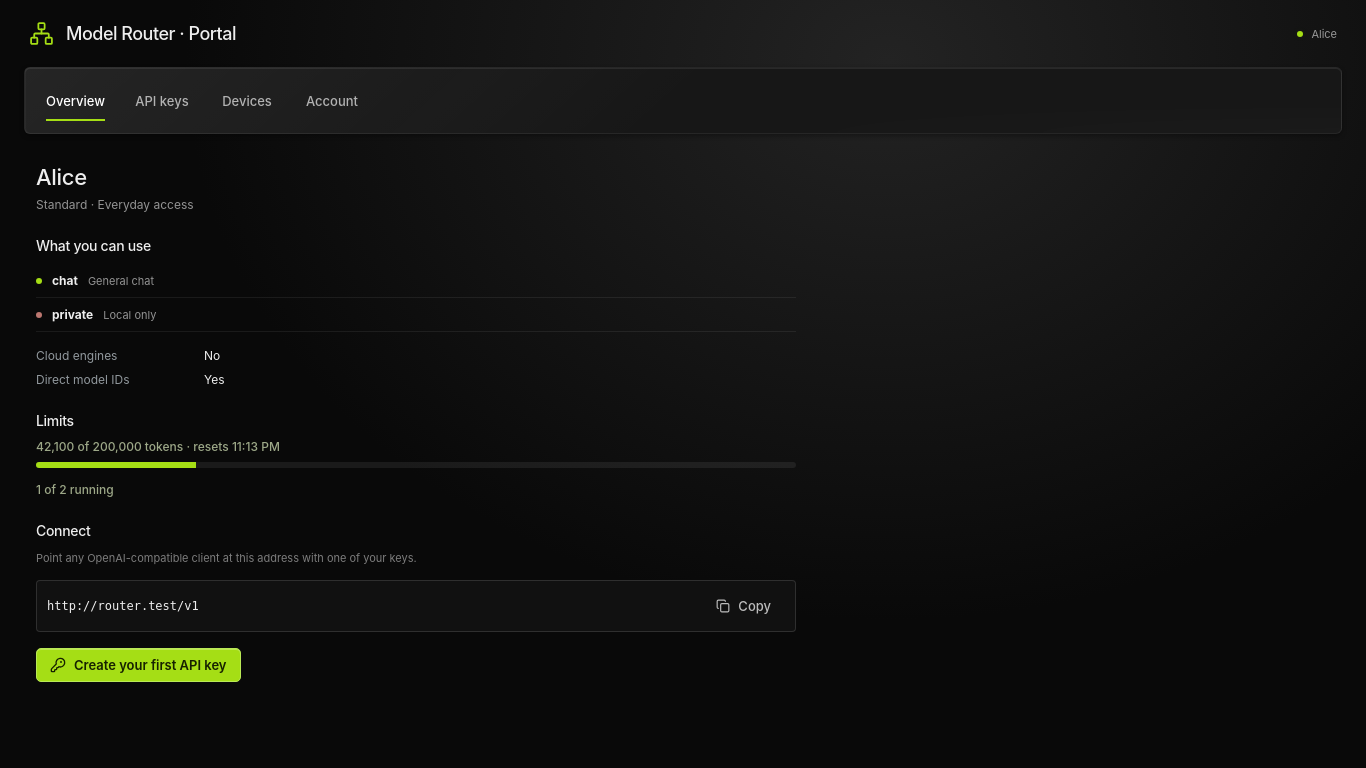
create key reveals the secret once with the snippet and revoke removes it
Click the button "API keys": click(162, 100) left=132, top=68, right=192, bottom=133
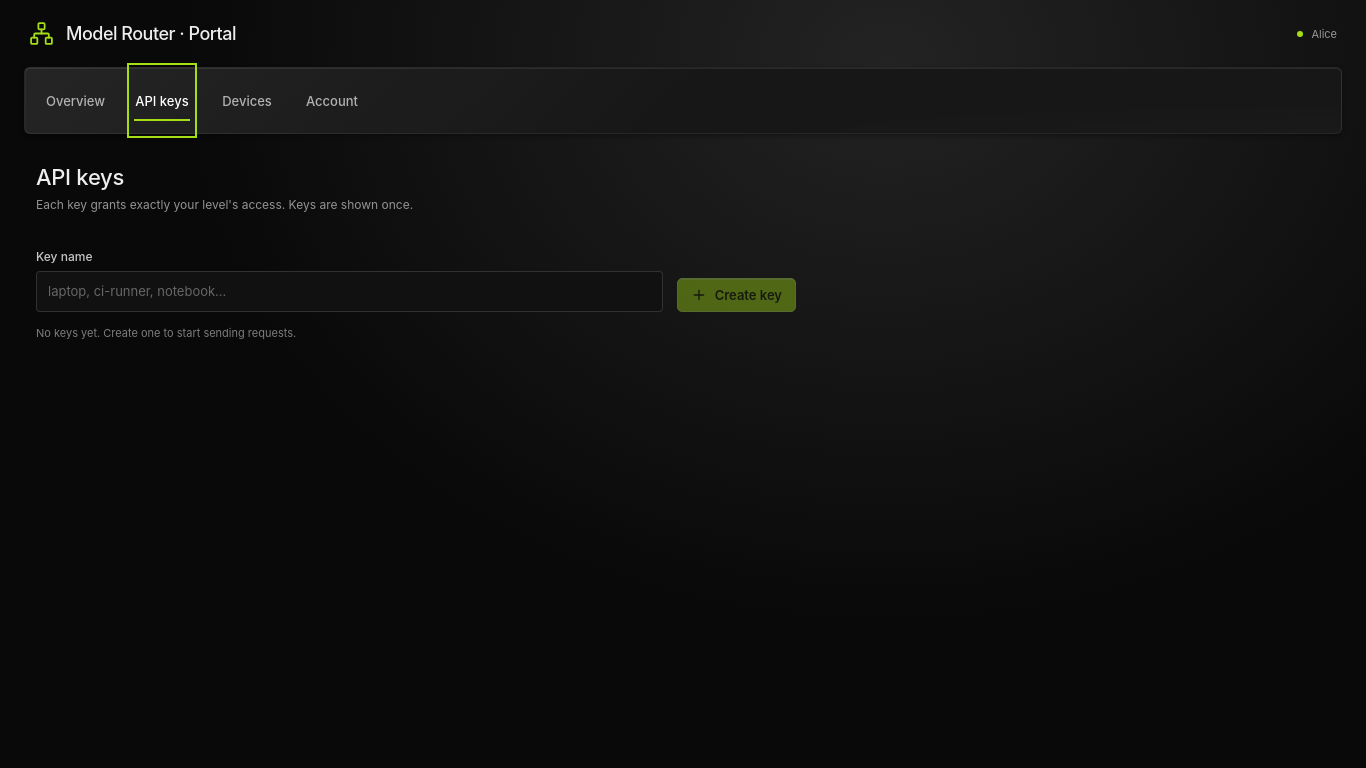
In the field labelled "Key name": (349, 291) left=36, top=271, right=663, bottom=312, type "laptop"
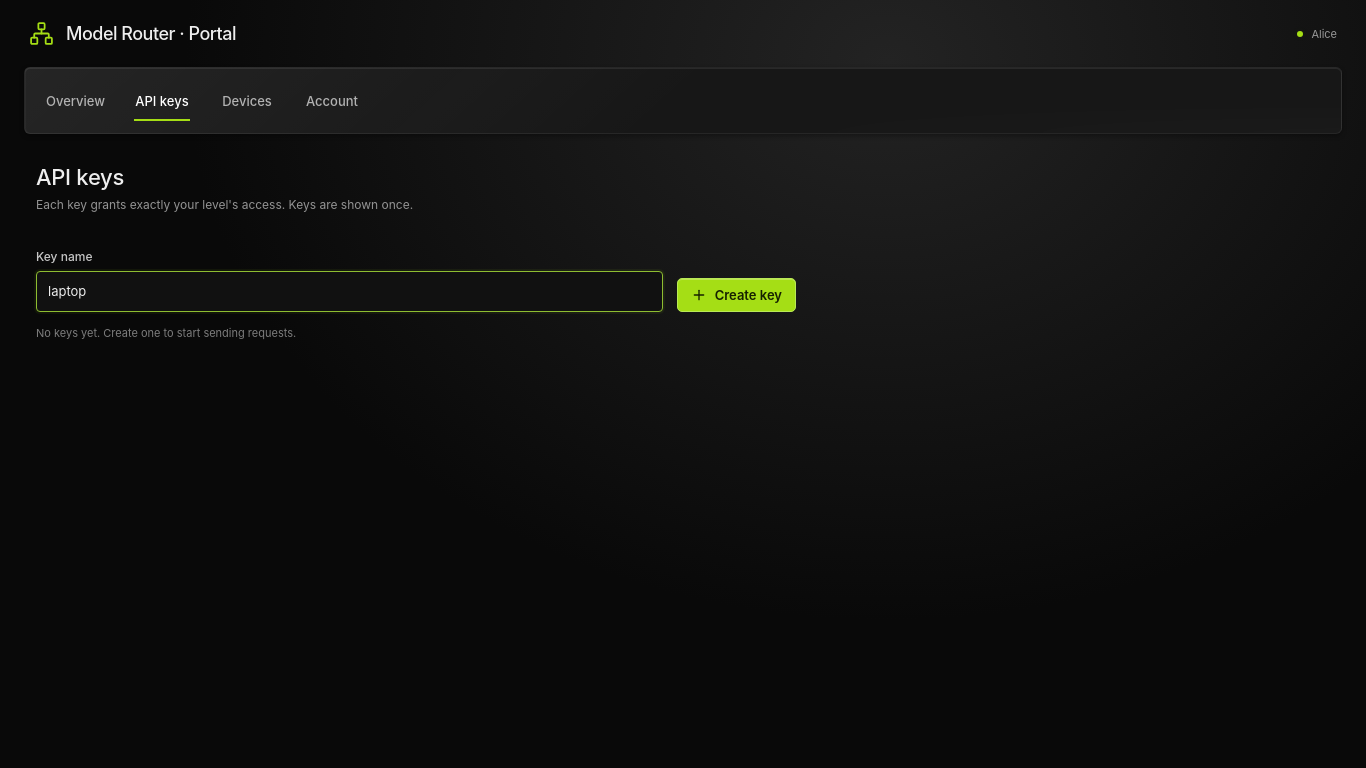
Click the button "Create key": click(736, 295) left=677, top=278, right=796, bottom=312
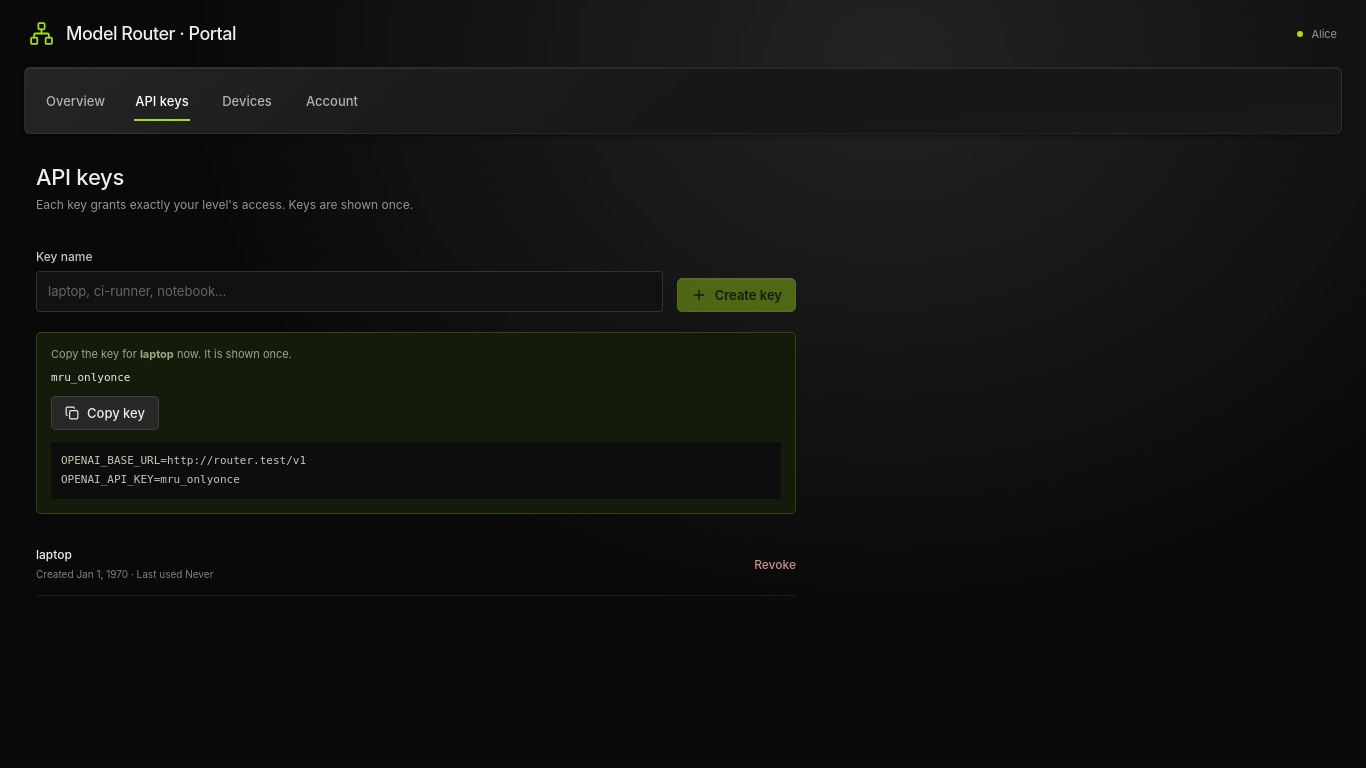
Check: the text "mru_onlyonce" is shown, box left=51, top=371, right=130, bottom=384
Check: the text "OPENAI_BASE_URL=http://router.test/v1" shows "OPENAI_API_KEY=mru_onlyonce", box left=61, top=454, right=306, bottom=486
Check: the 2nd text "laptop" is shown, box left=36, top=547, right=72, bottom=562
Click the button "Revoke": click(775, 565) left=754, top=552, right=796, bottom=577
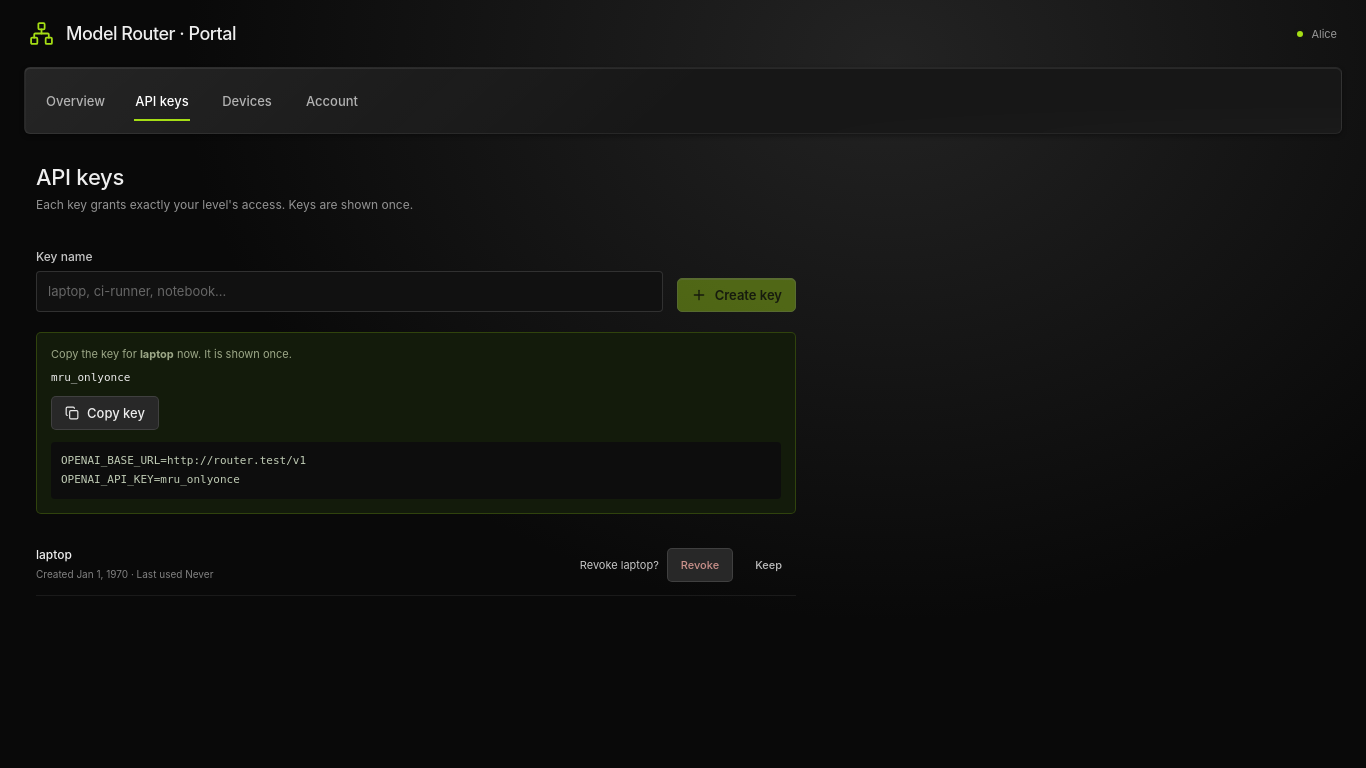
Check: the text "Revoke laptop?" is shown, box left=580, top=548, right=796, bottom=582
Click the button "Revoke": click(700, 565) left=667, top=548, right=733, bottom=582
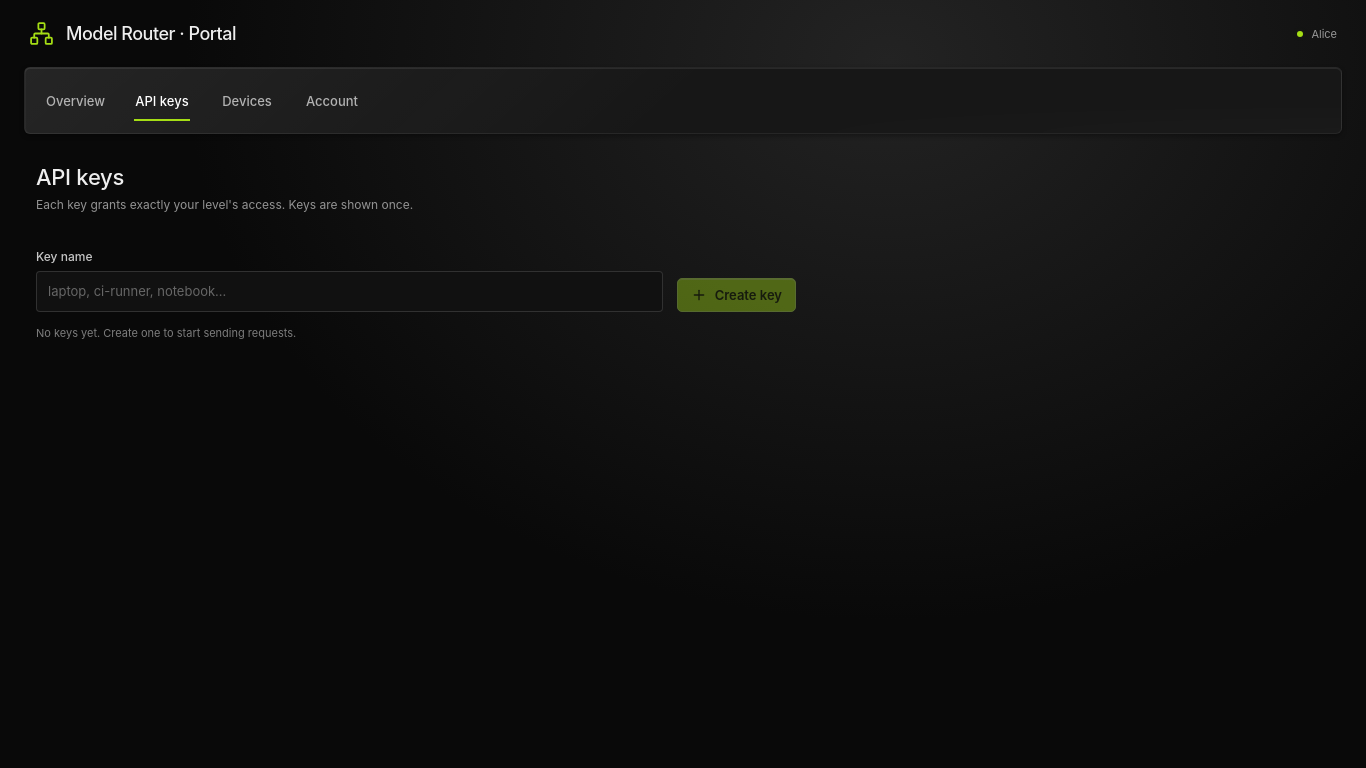
Check: the text "No keys yet. Create one to start sending requests." is shown, box left=36, top=326, right=296, bottom=340
Check: the text "mru_onlyonce" is gone
